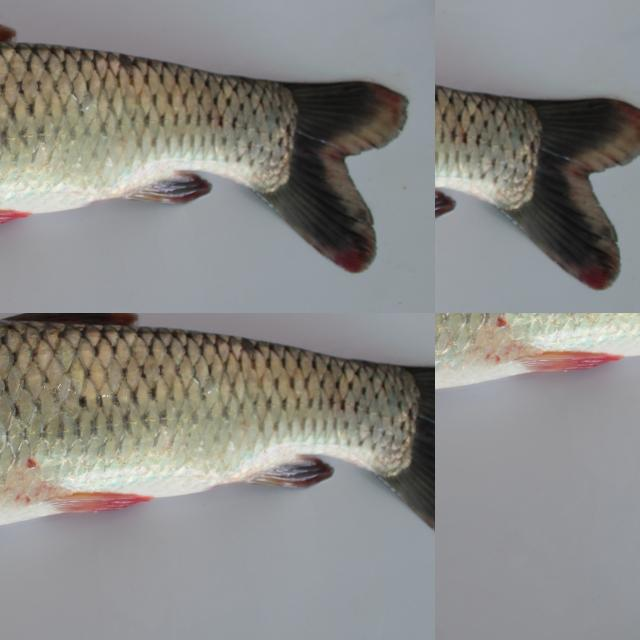fish: (435, 313, 640, 434)
